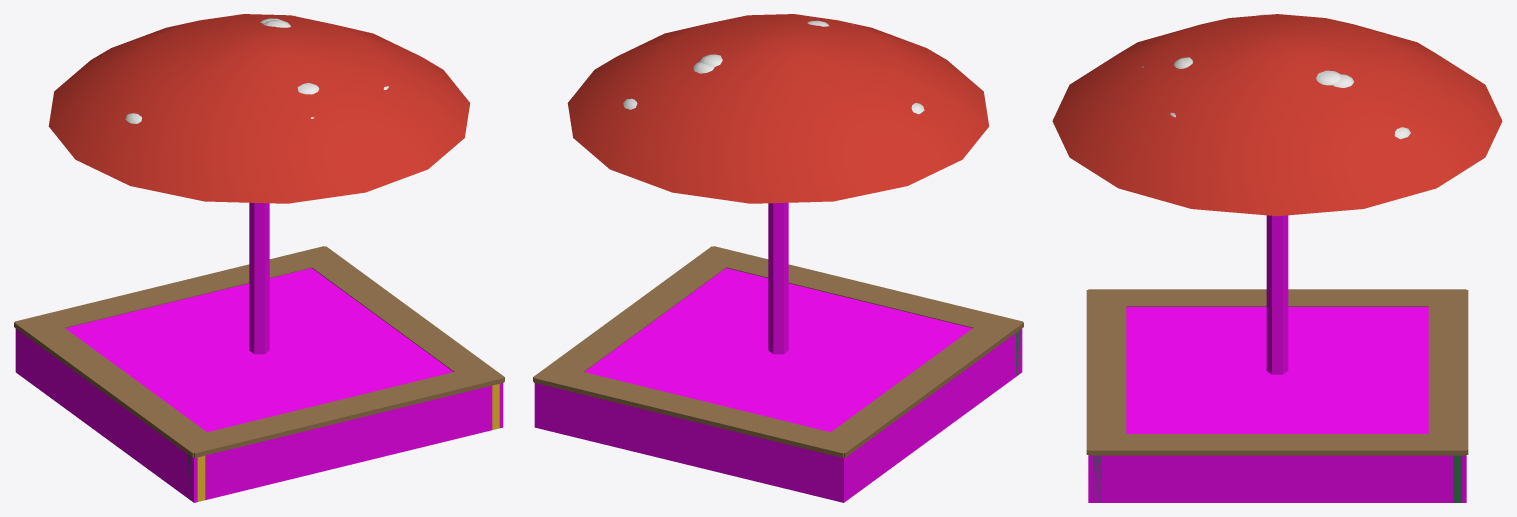
File: EN_Yard_Sandbox.fbx
3 views of the same model, side by side, from view 1: azimuth 30°, elevation 25°; view 2: azimuth 150°, elevation 25°; view 3: azimuth 270°, elevation 25° (orthographic). The views are drawn at different scales.
Visible parts, largest first — view 1: EN_Yard_Sandbox_Mesh, COL_Body; view 2: EN_Yard_Sandbox_Mesh, COL_Body; view 3: EN_Yard_Sandbox_Mesh, COL_Body.
Part boxes in pixels (x1,y1,x2,y2): EN_Yard_Sandbox_Mesh: (14,14,504,501); COL_Body: (15,202,503,502); EN_Yard_Sandbox_Mesh: (533,14,1023,457); COL_Body: (534,202,1022,502); EN_Yard_Sandbox_Mesh: (1052,14,1502,502); COL_Body: (1088,215,1466,502).
Bounding box in the file's own units: 2.5 × 2.32 × 2.5.
